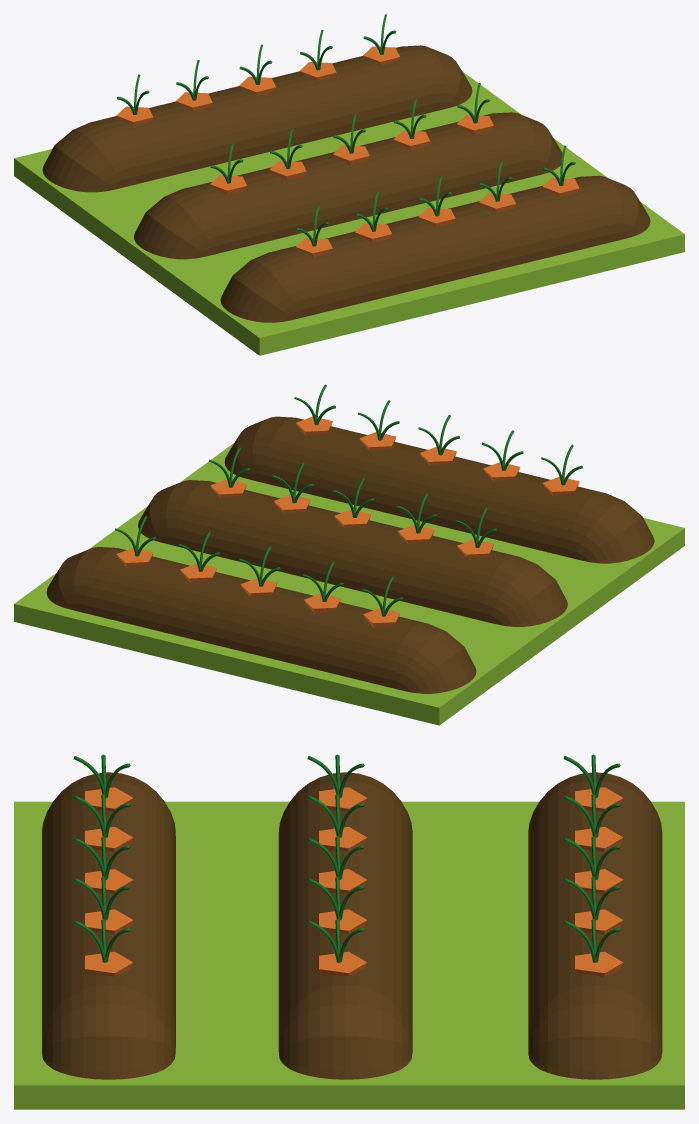
Rendered from carrotFarm.fbx.
3 views of the same model, one above another, from view 1: azimuth 30°, elevation 25°; view 2: azimuth 150°, elevation 25°; view 3: azimuth 270°, elevation 25° (orthographic). The views are drawn at different scales.
Parts seen in each view (by area): view 1: Cylinder.003; view 2: Cylinder.003; view 3: Cylinder.003.
Part boxes in pixels (x1,y1,x2,y2): Cylinder.003: (14,14,684,355); Cylinder.003: (14,384,684,725); Cylinder.003: (14,754,684,1109).
Bounding box in the file's own units: 1000 × 215 × 1000.
